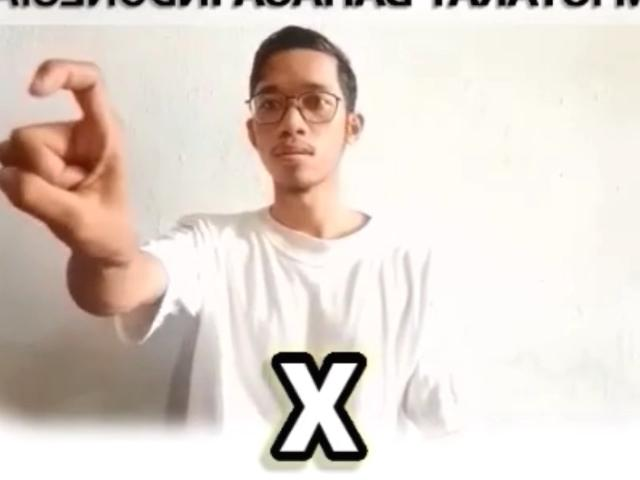X: (0, 52, 142, 264)
